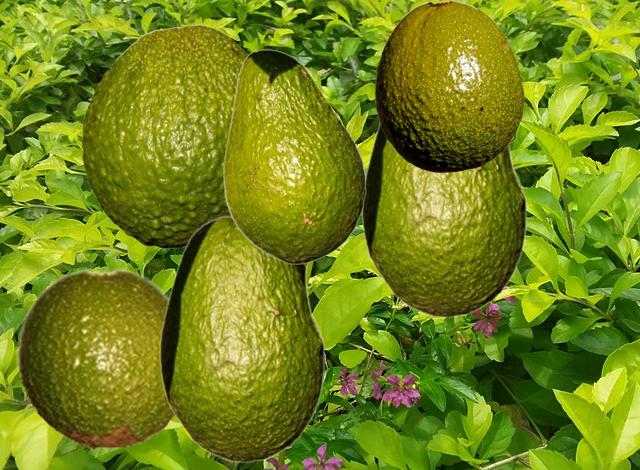avocado: (159, 215, 324, 462), (81, 24, 247, 247), (361, 122, 526, 317), (223, 49, 365, 263), (16, 268, 175, 449), (375, 0, 523, 171)
